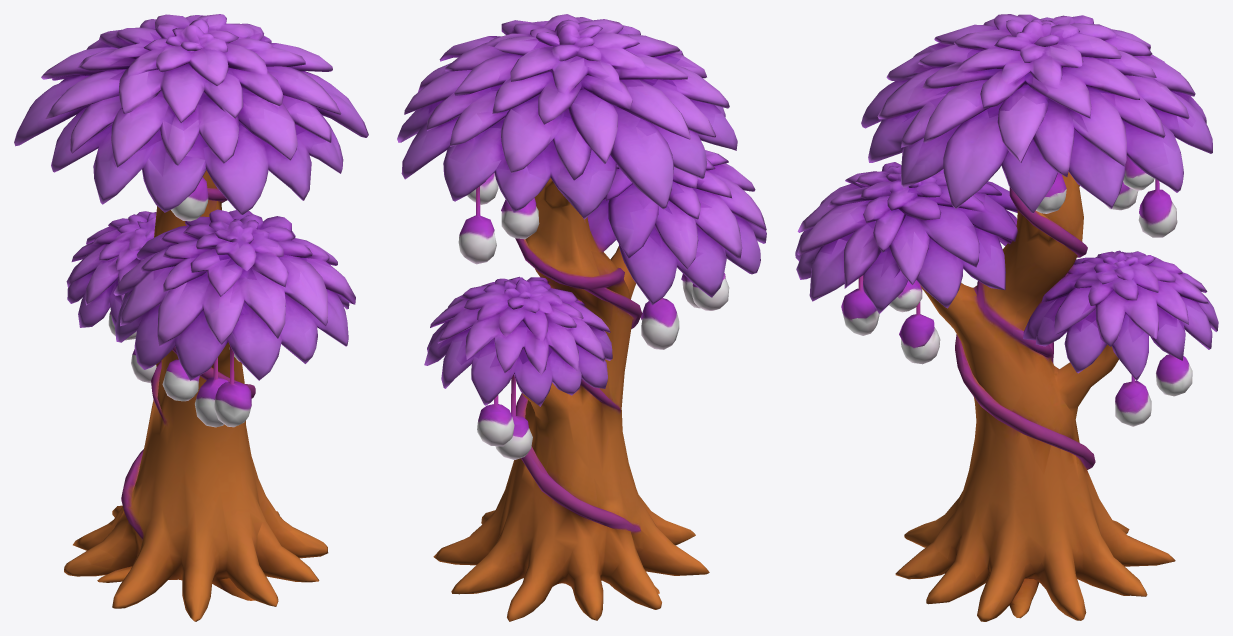
Rendered from tree_twotier.glb.
3 views of the same model, side by side, from view 1: azimuth 30°, elevation 25°; view 2: azimuth 150°, elevation 25°; view 3: azimuth 270°, elevation 25° (orthographic).
Parts seen in each view (by area): view 1: tripo_node_1ba98ba2-8cc3-42db-8146-cf8f474115b3; view 2: tripo_node_1ba98ba2-8cc3-42db-8146-cf8f474115b3; view 3: tripo_node_1ba98ba2-8cc3-42db-8146-cf8f474115b3.
Part boxes in pixels (x1,y1,x2,y2): tripo_node_1ba98ba2-8cc3-42db-8146-cf8f474115b3: [14, 14, 368, 621]; tripo_node_1ba98ba2-8cc3-42db-8146-cf8f474115b3: [397, 14, 766, 621]; tripo_node_1ba98ba2-8cc3-42db-8146-cf8f474115b3: [795, 14, 1218, 621].
Bounding box in the file's own units: 2.68 × 5 × 3.51.
1 material, 1 textured.
